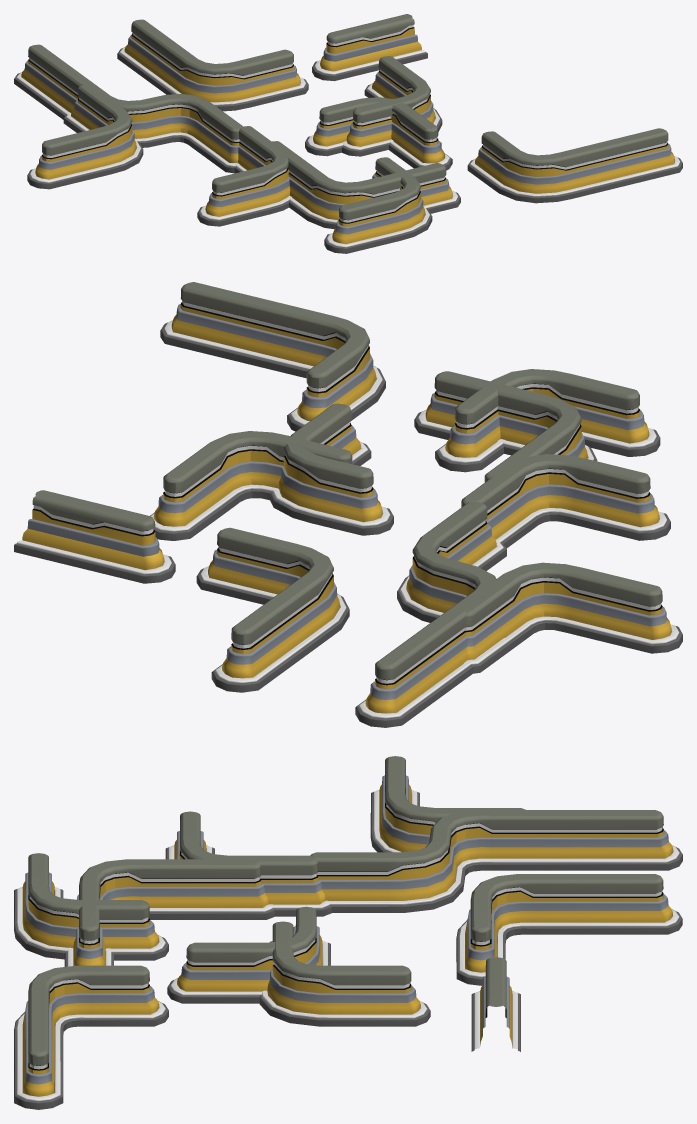
File: Level3_Small_walls.fbx
3 renders of one model, top to bottom at view 1: azimuth 30°, elevation 25°; view 2: azimuth 150°, elevation 25°; view 3: azimuth 270°, elevation 25°, orthographic. The views are drawn at different scales.
Visible parts, largest first — view 1: Small_wall_L27, Small_wall_L57, Small_wall_L26, Small_wall_L31, Small_wall_L1, Small_wall_L30, Small_wall_L28, Small_wall_L, Small_wallv2_1, Small_wall_L29; view 2: Small_wall_L27, Small_wall_L57, Small_wall_L26, Small_wall_L31, Small_wall_L30, Small_wall_L28, Small_wall_L29, Small_wall_L, Small_wallv2_1, Small_wall_L1; view 3: Small_wall_L57, Small_wall_L26, Small_wall_L27, Small_wall_L1, Small_wall_L29, Small_wall_L28, Small_wall_L, Small_wall_L30, Small_wall_L31, Small_wallv2_1.
Part boxes in pixels (x1,y1,x2,y2): Small_wall_L27: (467,128,682,203); Small_wall_L57: (14,44,242,173); Small_wall_L26: (117,19,308,111); Small_wall_L31: (27,85,143,189); Small_wall_L1: (269,141,460,229); Small_wall_L30: (197,126,291,226); Small_wall_L28: (324,157,432,253); Small_wall_L: (305,97,452,170); Small_wallv2_1: (312,14,427,81); Small_wall_L29: (342,56,442,156); Small_wall_L27: (160,282,385,431); Small_wall_L57: (355,501,506,727); Small_wall_L26: (196,527,349,692); Small_wall_L31: (457,562,682,673); Small_wall_L30: (461,454,670,548); Small_wall_L28: (435,369,660,472); Small_wall_L29: (150,431,352,540); Small_wall_L: (270,403,393,535); Small_wallv2_1: (14,490,175,583); Small_wall_L1: (414,371,597,482); Small_wall_L57: (310,810,682,912); Small_wall_L26: (456,874,682,985); Small_wall_L27: (14,965,168,1109); Small_wall_L1: (64,859,274,966); Small_wall_L29: (259,921,430,1026); Small_wall_L28: (14,853,168,960); Small_wall_L: (167,906,330,1003); Small_wall_L30: (165,811,331,916); Small_wall_L31: (370,756,525,858); Small_wallv2_1: (471,957,520,1051).
Size of the model in its own units: 522 by 37.38 by 467.
